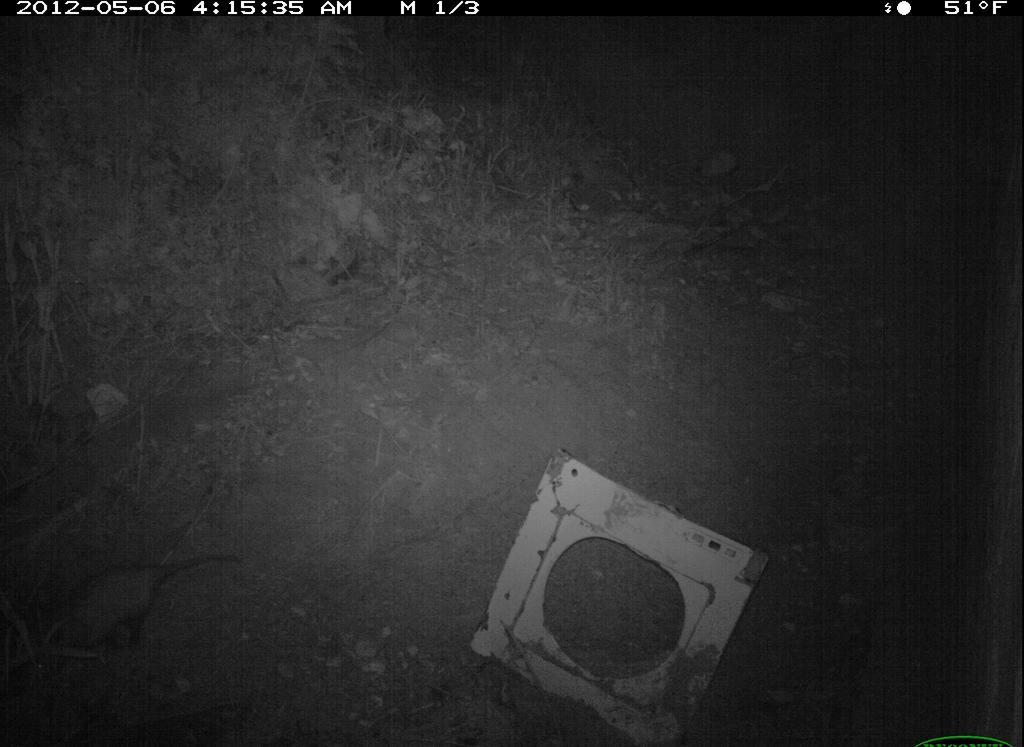opossum: (60, 549, 250, 658)
